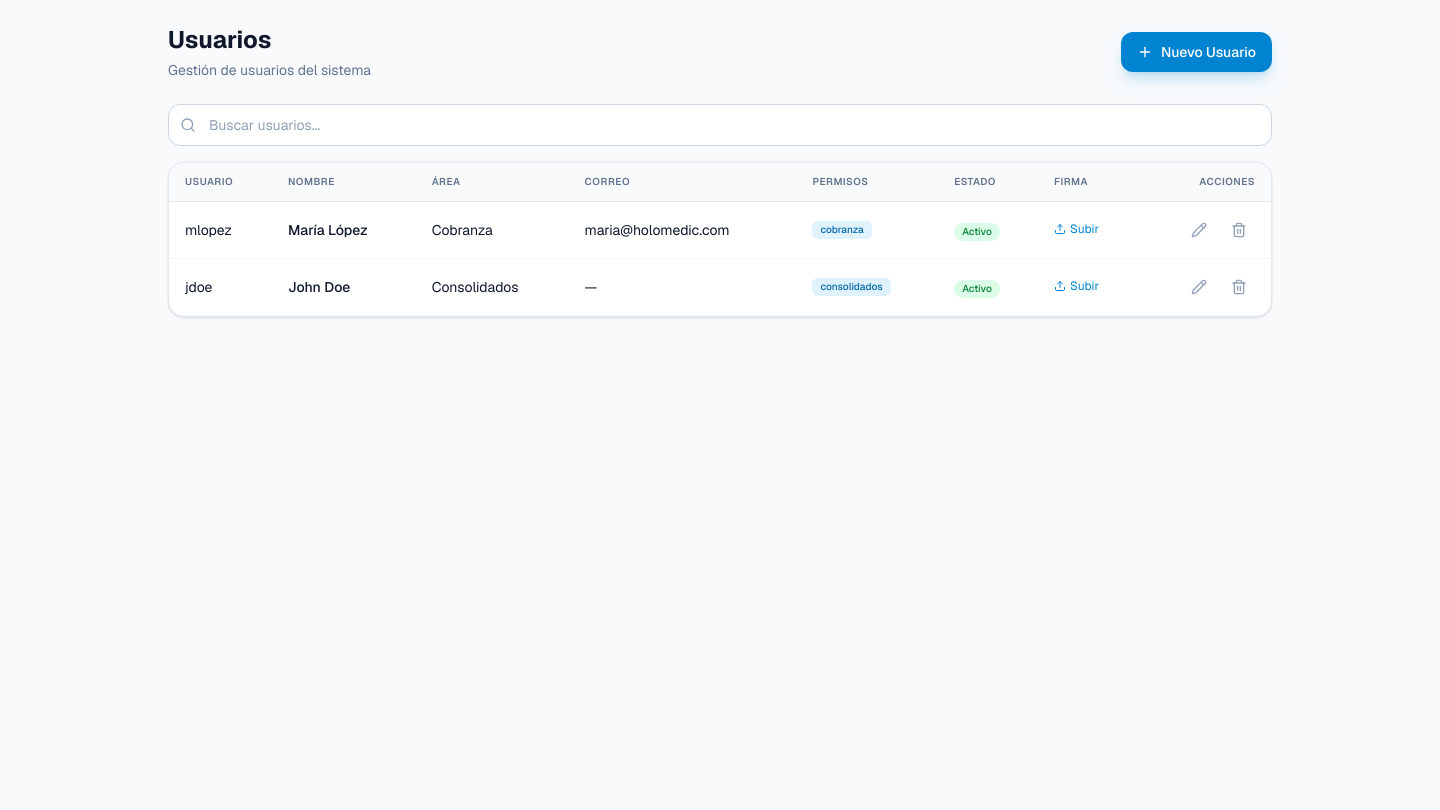
UsuariosPage — dropdown de áreas (feature areas-crud) › conserva el área actual del usuario aunque no esté en el catálogo
Expected: the text "María López" is shown, [272,202,416,259]
Note: María belongs to 'cobranza', which the catalog does not list.
Click the button titled "Editar" in the row of "mlopez" at (1199, 230), box [1183,214,1215,246]
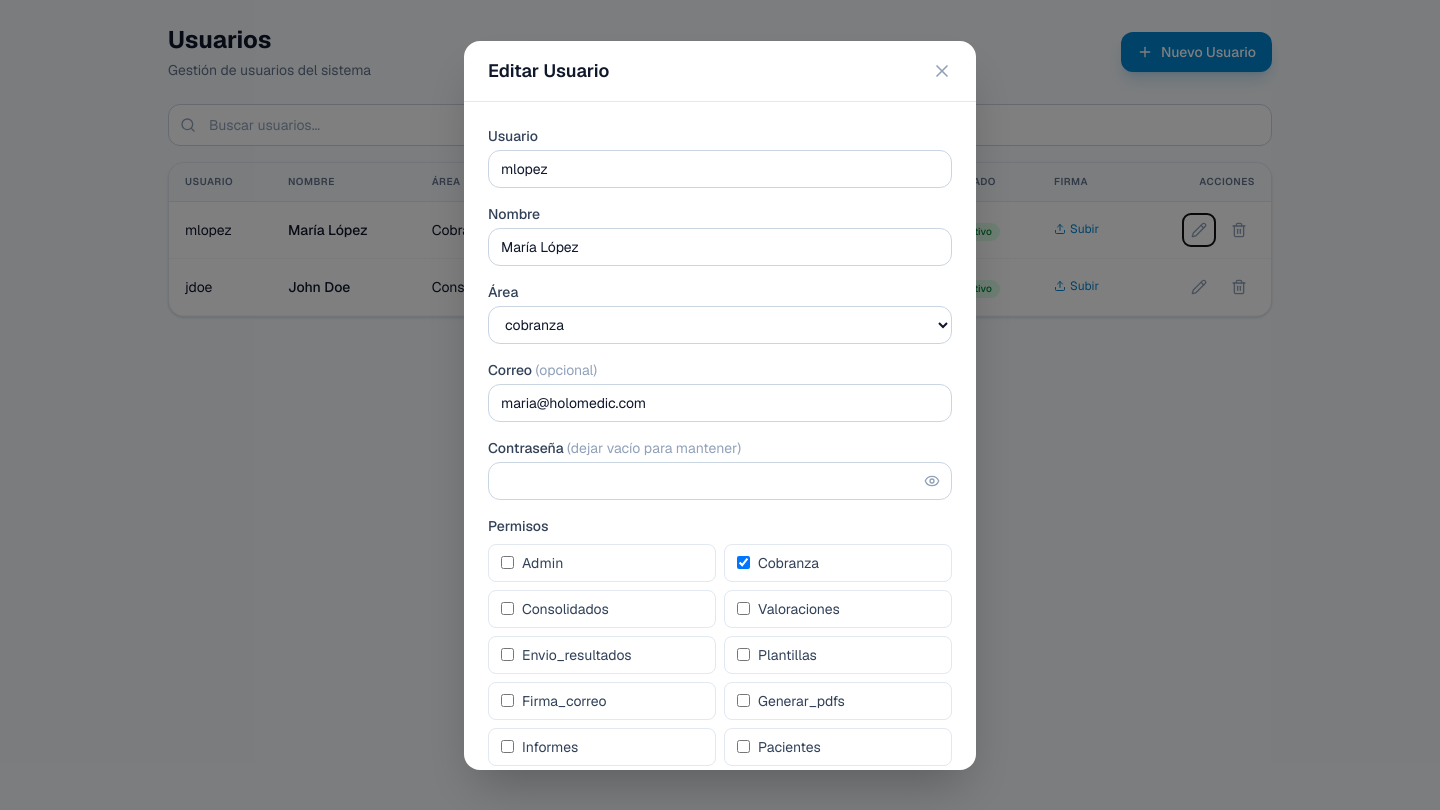
Expected: the cell reads "cobranza", [432,221,493,239]
Expected: the dropdown labelled "Área" shows "cobranza", [488,306,952,344]
